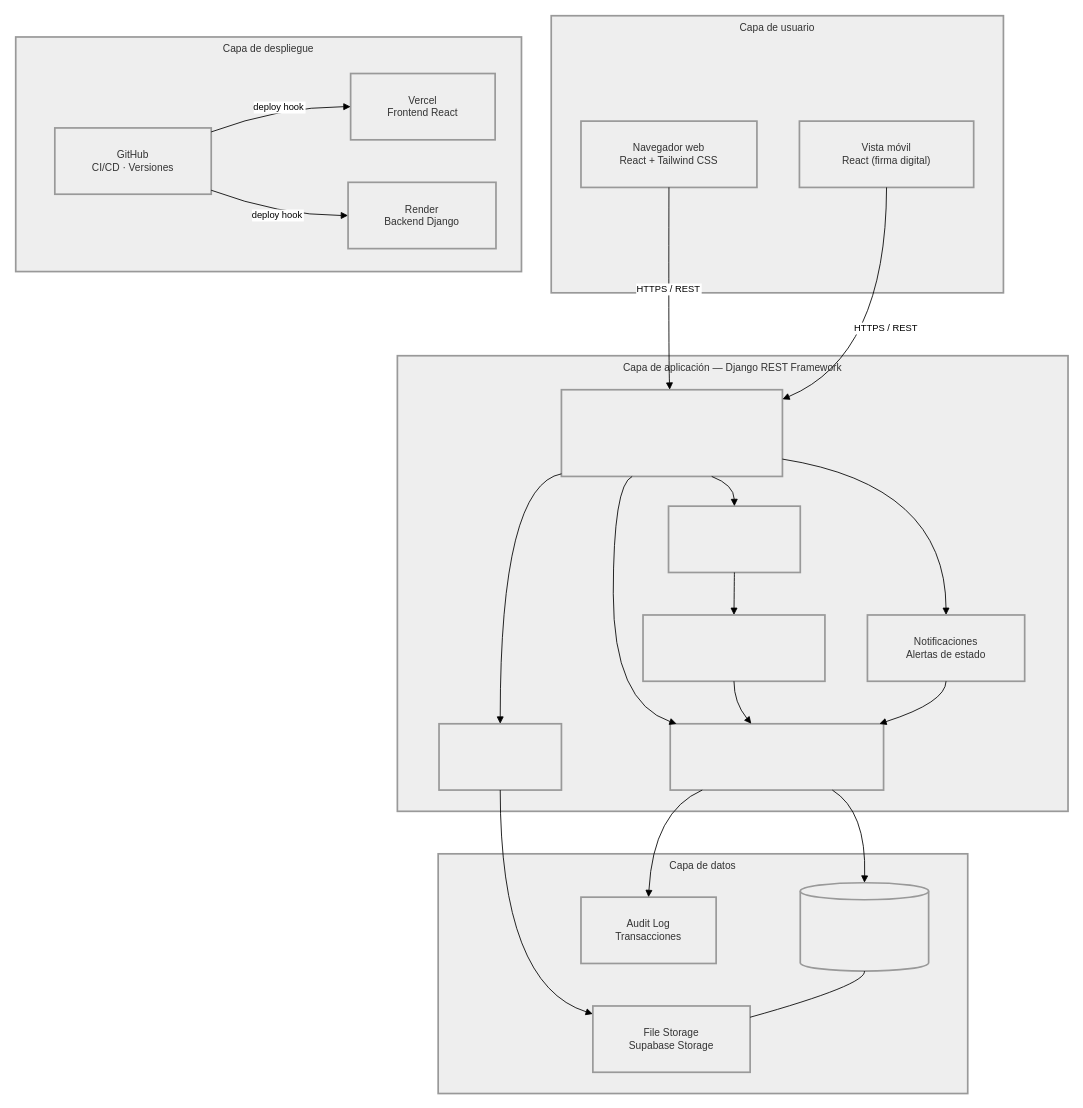
Image size: 1083x1108. Some labels were removed from this diagram. The centre of each missing label's shape, as x and y in pixels:
"API REST Core Obras · RRHH · Logística · Finanzas" belongs at [671,432].
"Auth Service JWT + bcrypt" belongs at [734,539].
"ORM / Queries Django ORM → PostgreSQL" belongs at [776,756].
"PDF Service WeasyPrint" belongs at [500,756].
"PostgreSQL Supabase managed" belongs at [864,926].
"Roles & Permisos Gerencia · Supervisor" belongs at [733,648].
